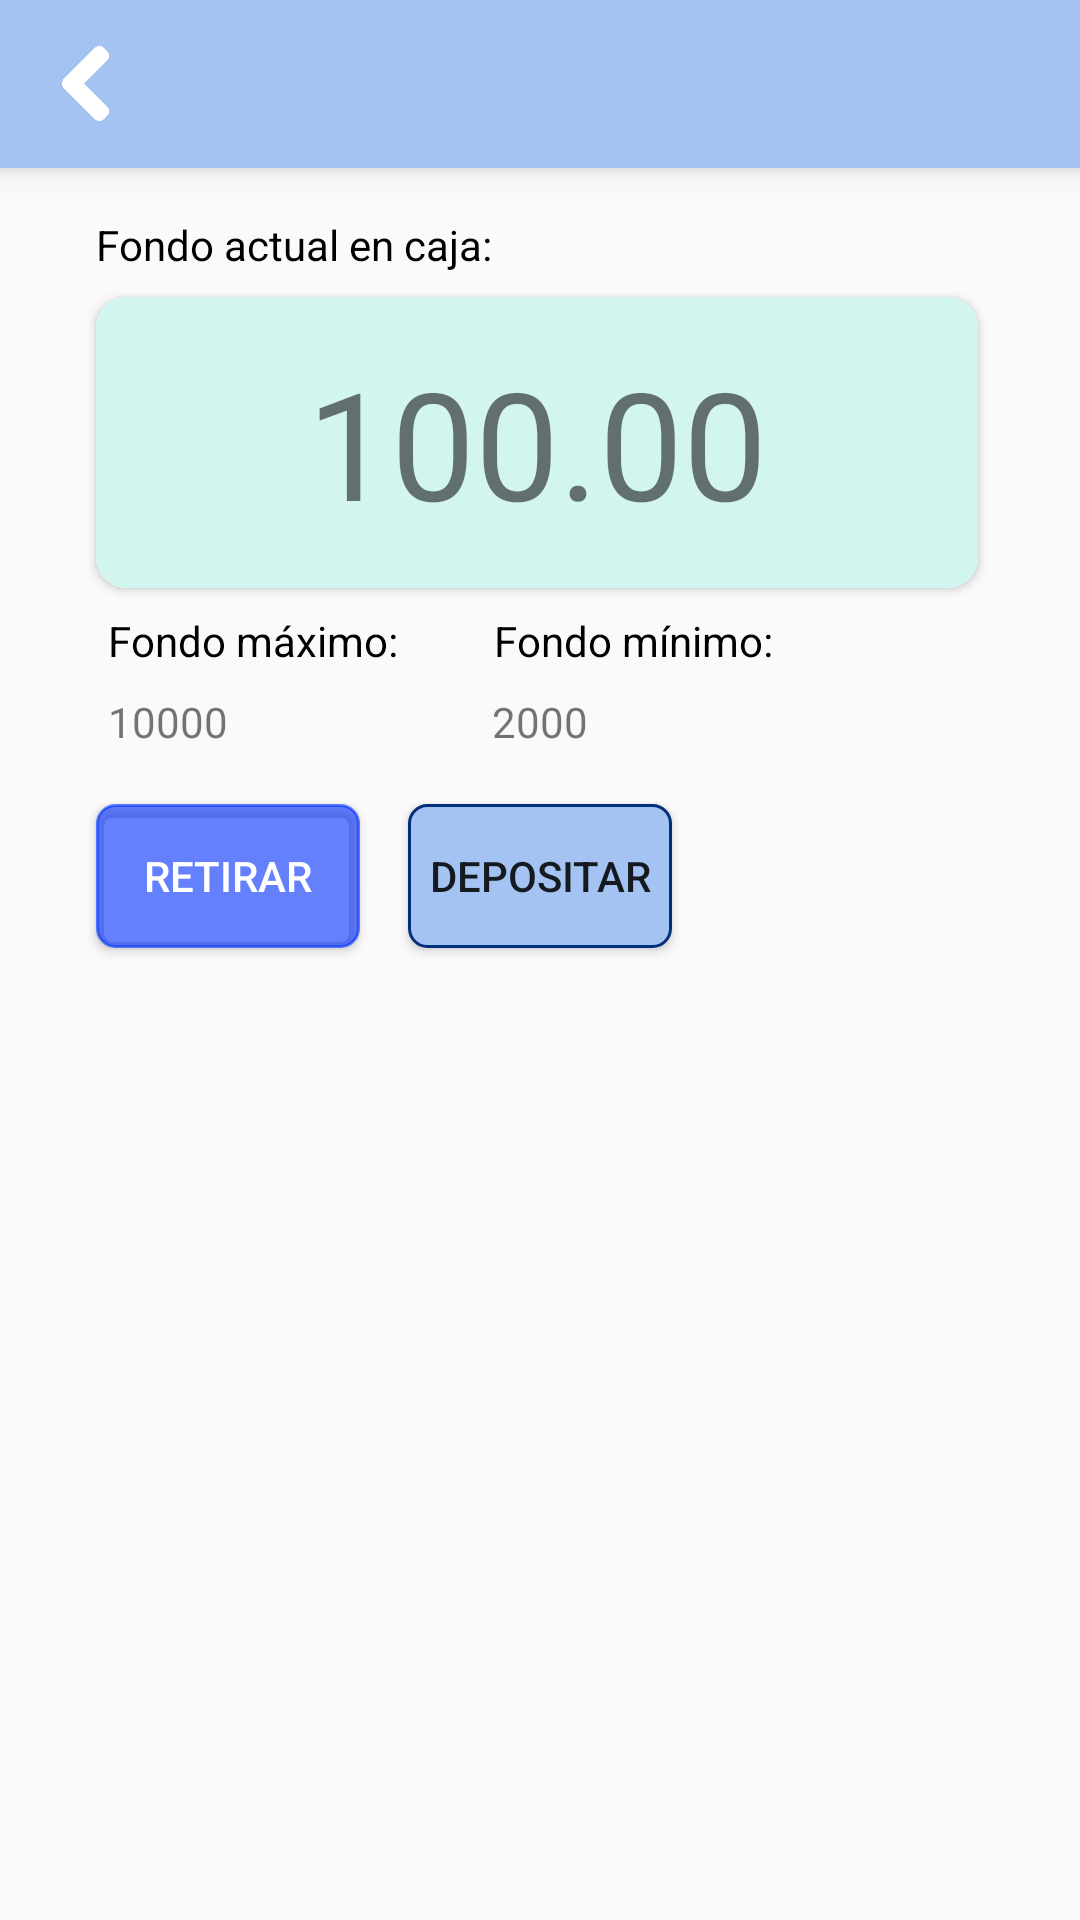

Where to tap for icons on this 1080 x 1920 app screen, as point (x, y):
back: point (85, 83)
